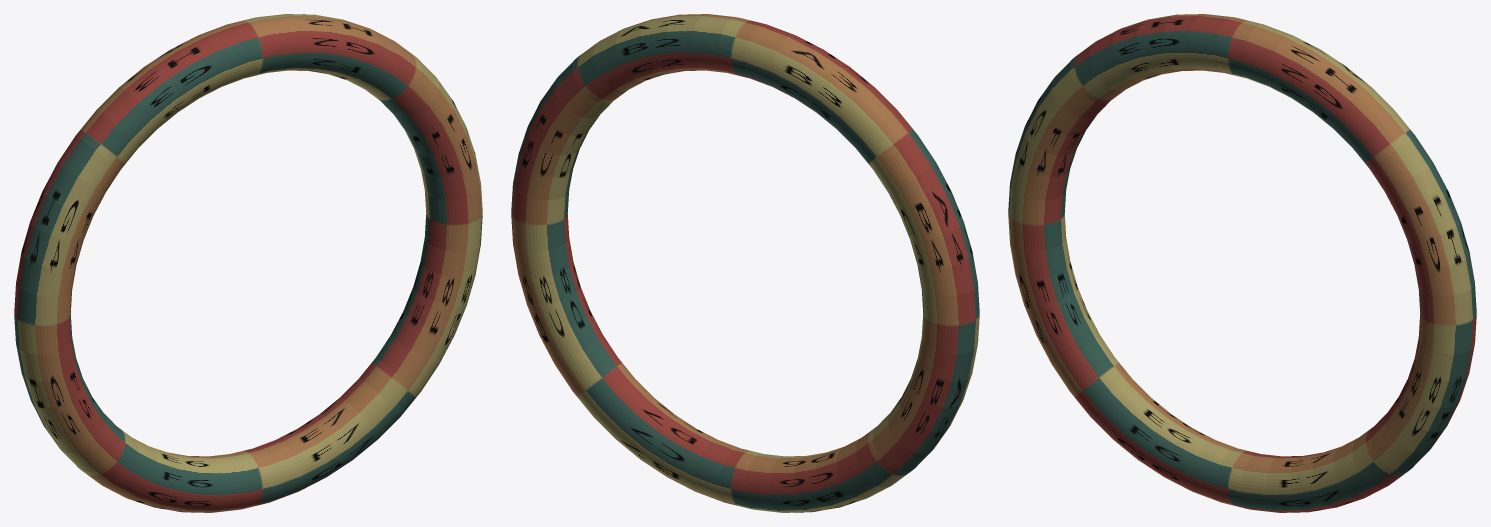
The model's file is texture_torus_R27_r5.glb.
The picture shows the model from 3 angles, left to right: view 1: azimuth 30°, elevation 25°; view 2: azimuth 150°, elevation 25°; view 3: azimuth 330°, elevation 25°; orthographic projection.
Visible parts, largest first — view 1: world; view 2: world; view 3: world.
Boxes of the visible parts, x1,y1,x2,y2 form: world: (14, 14, 482, 512); world: (511, 14, 979, 512); world: (1008, 14, 1476, 512).
Size of the model in its own units: 31.33 by 31.27 by 3.33.
1 material, 1 textured.
